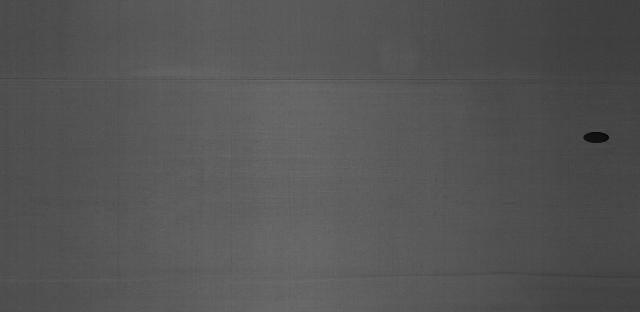punching_hole: (578, 128, 612, 146)
welding_line: (6, 67, 636, 92)
